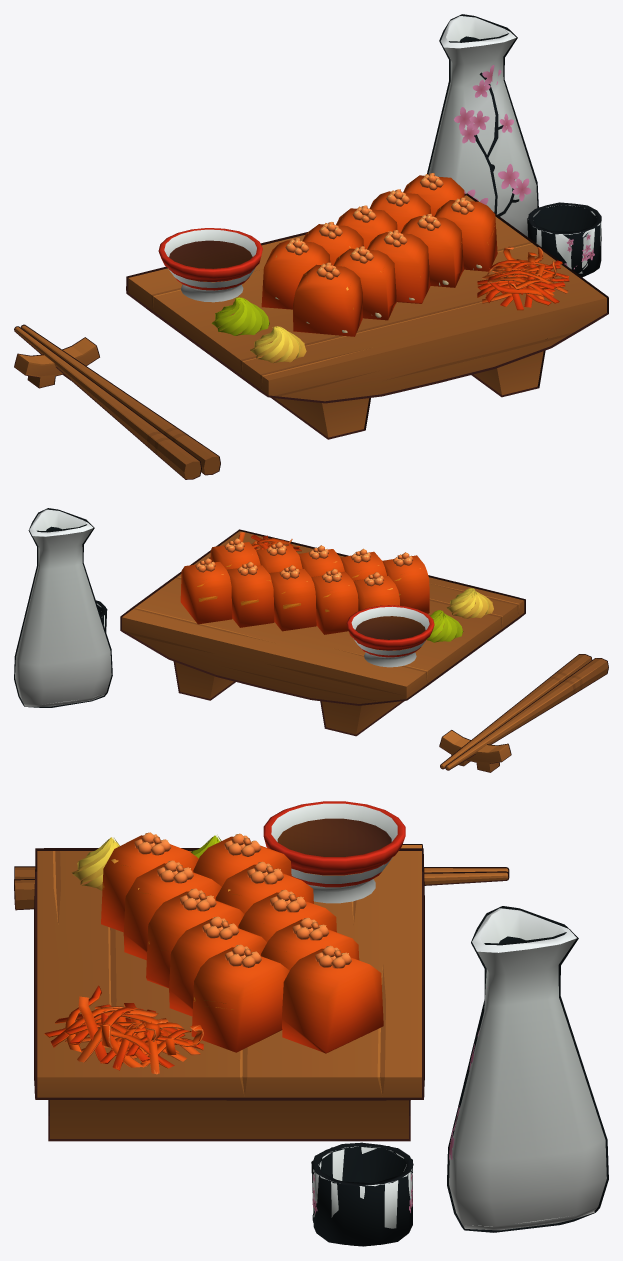
File: sushi.obj
3 renders of one model, top to bottom at view 1: azimuth 30°, elevation 25°; view 2: azimuth 150°, elevation 25°; view 3: azimuth 270°, elevation 25°, orthographic. The views are drawn at different scales.
Visible parts, largest first — view 1: Sushi_free_Sushi_Props_0_Sushi_Props, Sushi_free_Sushi_Props_0.001_Sushi_Props; view 2: Sushi_free_Sushi_Props_0_Sushi_Props, Sushi_free_Sushi_Props_0.001_Sushi_Props; view 3: Sushi_free_Sushi_Props_0_Sushi_Props, Sushi_free_Sushi_Props_0.001_Sushi_Props.
Part boxes in pixels (<box>): Sushi_free_Sushi_Props_0_Sushi_Props: <box>14,14,608,479</box>; Sushi_free_Sushi_Props_0.001_Sushi_Props: <box>261,197,568,310</box>; Sushi_free_Sushi_Props_0_Sushi_Props: <box>14,508,608,772</box>; Sushi_free_Sushi_Props_0.001_Sushi_Props: <box>210,532,399,612</box>; Sushi_free_Sushi_Props_0_Sushi_Props: <box>14,801,608,1246</box>; Sushi_free_Sushi_Props_0.001_Sushi_Props: <box>44,833,291,1062</box>.
Bounding box in the file's own units: 2.44 × 0.8661 × 1.63.
